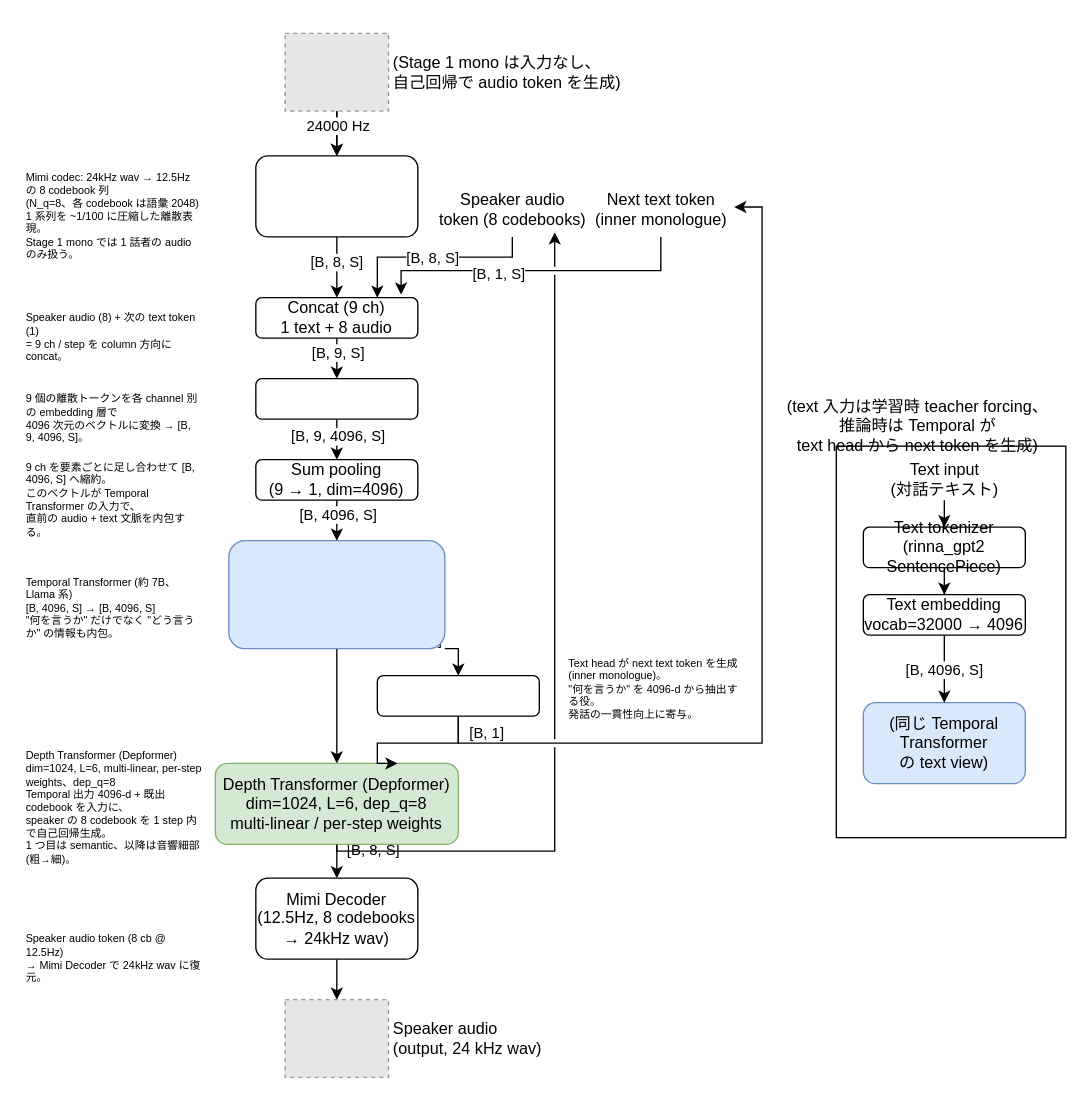
The diagram is 1089 pixels wide and 1102 high, and some of its shapes have lost their labels. Grey dashed boxes stand in for pictures. The box of each missing label's shape, as (x1, y1, x2, y2) in pixels:
Embedding layer (×9) 各 codebook/text を 4096-d に変換: (254, 377, 418, 419)
Mimi Encoder (24kHz wav → 12.5Hz, 8 codebooks): (254, 155, 418, 237)
Temporal Transformer (≈ 7B params) dim=4096, L=32, H=32 RoPE / causal / ctx=3000: (227, 539, 445, 649)
Text head (Linear 4096→32000) + softmax: (376, 674, 539, 716)
